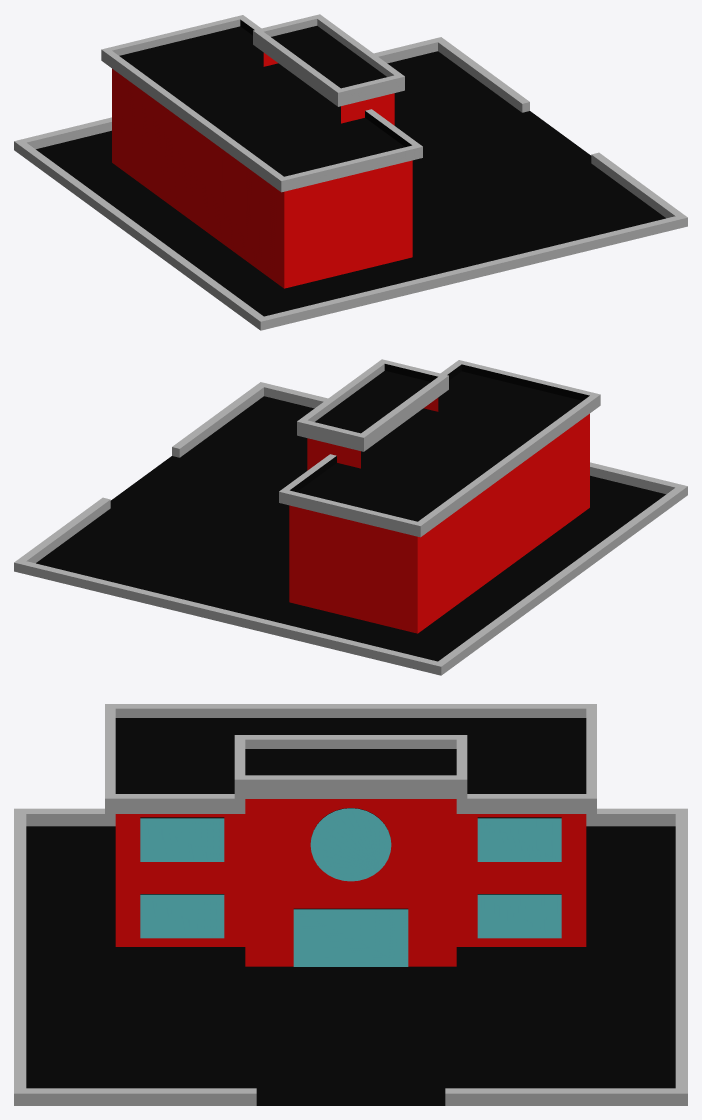
File: Commercial2.fbx
The picture shows the model from 3 angles, top to bottom: view 1: azimuth 30°, elevation 25°; view 2: azimuth 150°, elevation 25°; view 3: azimuth 270°, elevation 25°; orthographic projection. The views are drawn at different scales.
Parts seen in each view (by area): view 1: Plane; view 2: Plane; view 3: Plane.
Boxes of the visible parts, x1,y1,x2,y2 form: Plane: [14, 14, 687, 330]; Plane: [14, 359, 687, 675]; Plane: [14, 704, 687, 1105].
Bounding box in the file's own units: 5000 × 1569 × 5000.
